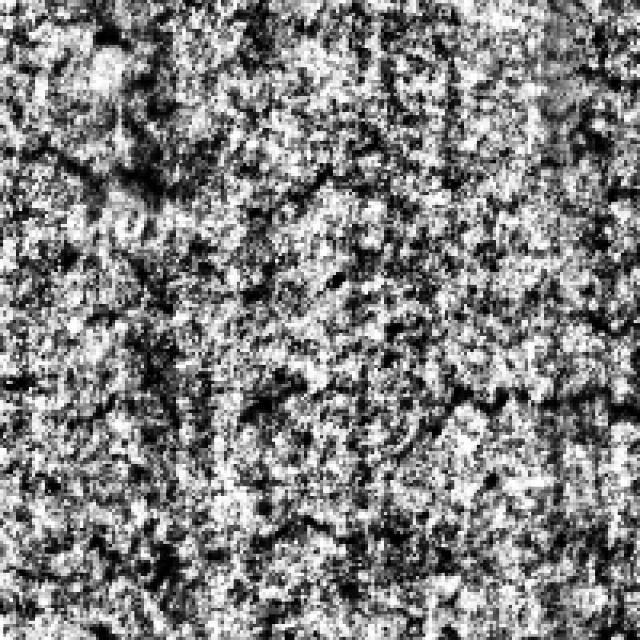Pitted_Surface: (9, 106, 182, 426), (230, 371, 630, 499)
